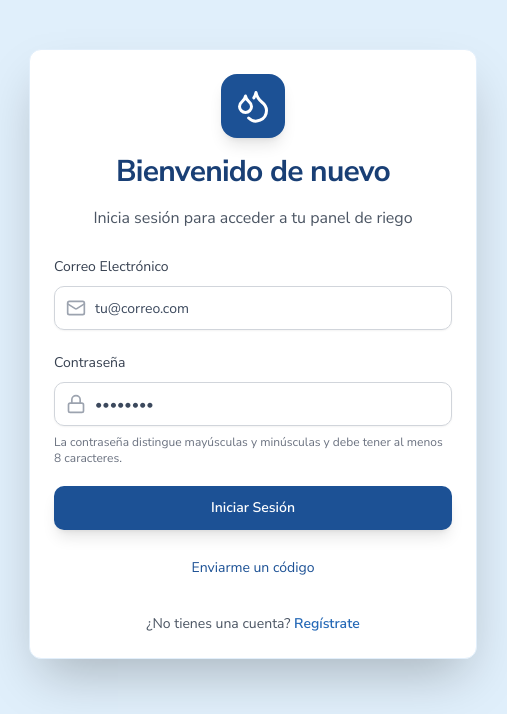
Test case: Login page module › shows a validation error when fields are empty
Click the button "Iniciar Sesión".
click(253, 508)  # box x1=54 y1=486 x2=452 y2=530
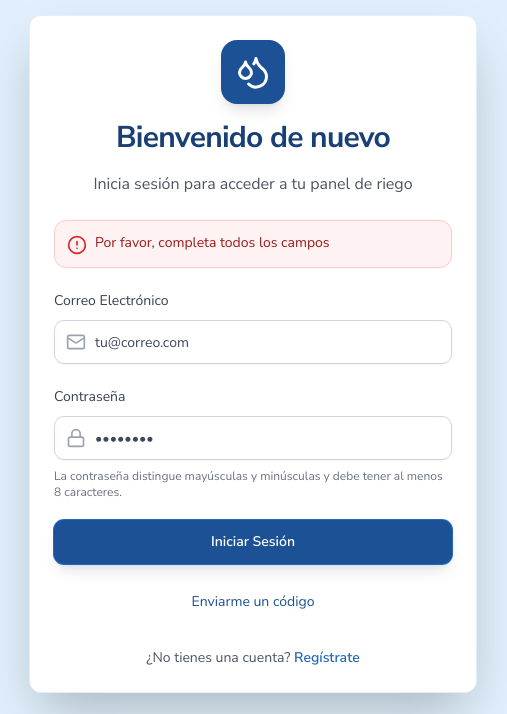
Result: the text "Por favor, completa todos los campos" is shown at x1=95 y1=233 x2=330 y2=253
